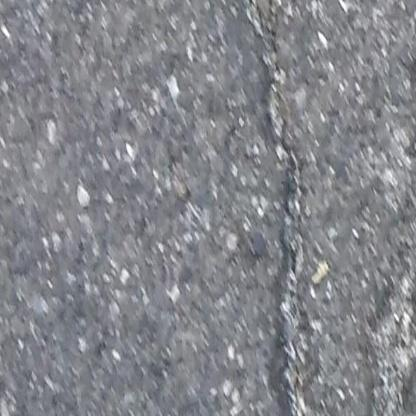Cracks: (239, 0, 318, 416), (351, 147, 416, 416)
